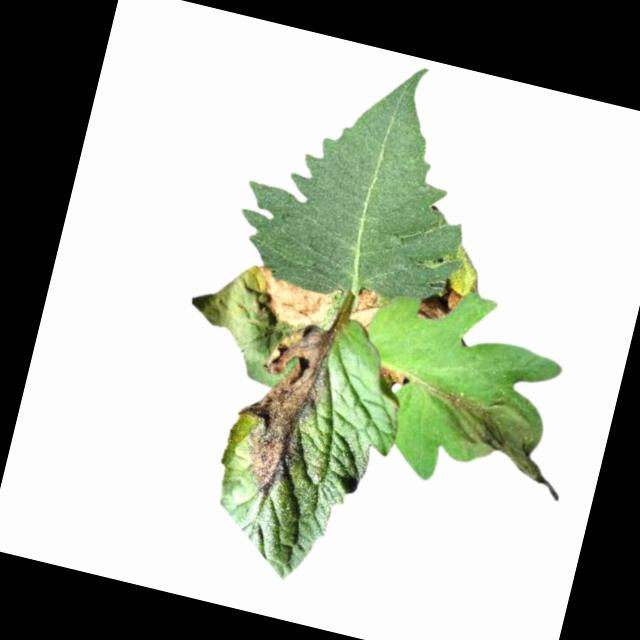Late_blight: (221, 311, 341, 502), (419, 381, 580, 504), (244, 262, 342, 336), (415, 281, 466, 329), (348, 283, 386, 331), (377, 362, 410, 387)
healthy: (223, 32, 503, 323)
